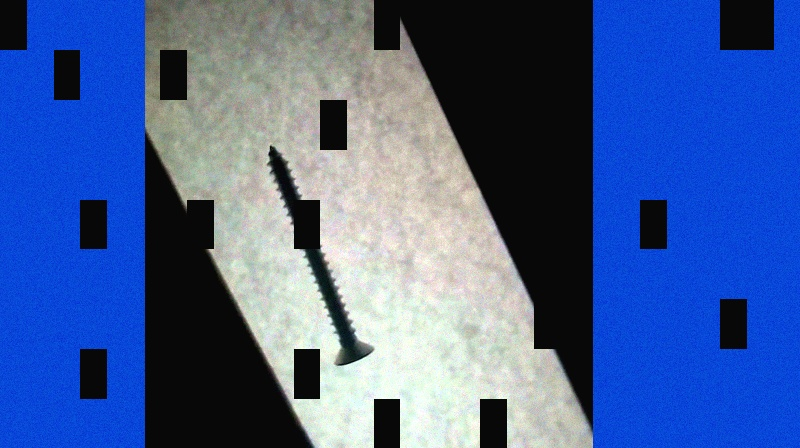S002: (261, 140, 377, 372)
